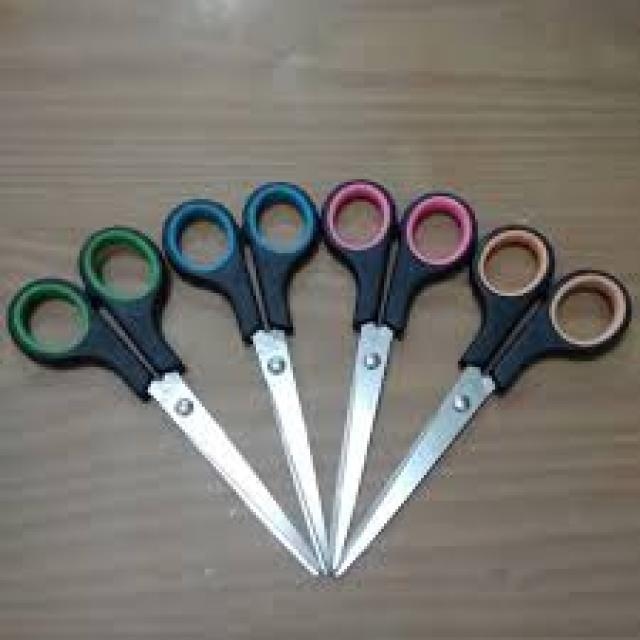Scissors: (314, 209, 638, 590), (1, 213, 322, 588), (148, 174, 334, 559), (322, 162, 482, 558)
